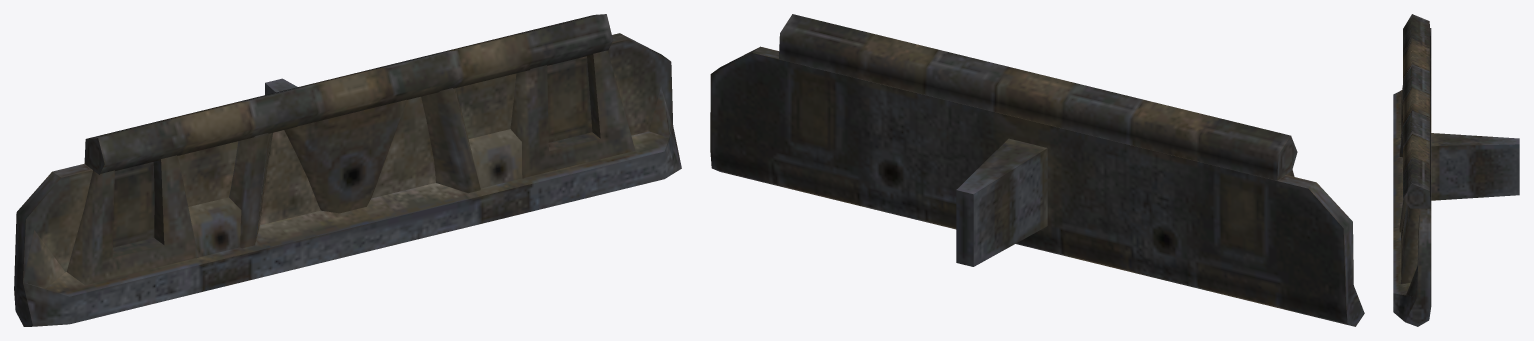
The picture shows the model from 3 angles, left to right: view 1: azimuth 30°, elevation 25°; view 2: azimuth 150°, elevation 25°; view 3: azimuth 270°, elevation 25°; orthographic projection. The views are drawn at different scales.
Visible parts, largest first — view 1: set_0_group_0; view 2: set_0_group_0; view 3: set_0_group_0.
Part boxes in pixels (x1,y1,x2,y2): set_0_group_0: (14,14,681,326); set_0_group_0: (710,14,1364,326); set_0_group_0: (1393,14,1519,326).
Bounding box in the file's own units: 0.6704 × 0.1727 × 0.1652.
Materials: 1 (1 with a texture image).
